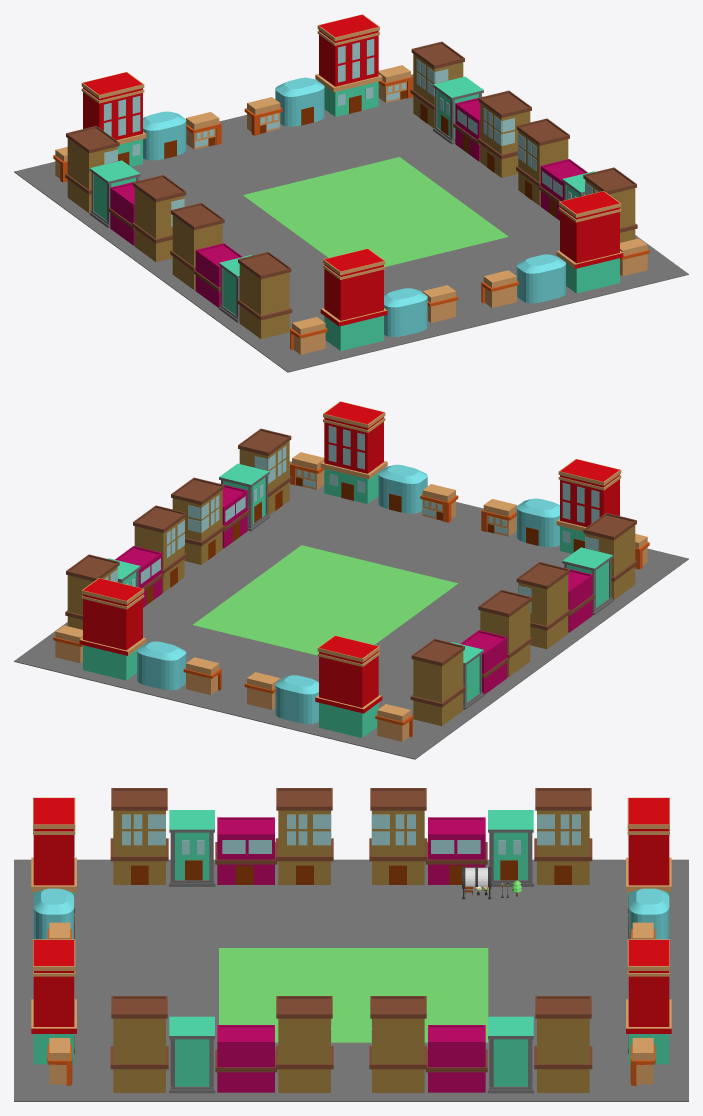
Rendered from Ciudad.fbx.
3 renders of one model, top to bottom at view 1: azimuth 30°, elevation 25°; view 2: azimuth 150°, elevation 25°; view 3: azimuth 270°, elevation 25°, orthographic. The views are drawn at different scales.
Parts seen in each view (by area): view 1: GEO-Suelo, GEO-CasaRoja, Plane, GEO-CasaMarron, GEO-CasaMarron.001, GEO-CasaAzul, GEO-CasaRosa, GEO-CasaAmarilla, GEO-CasaNaranja.001, GEO-CasaNaranja; view 2: GEO-Suelo, GEO-CasaRoja, Plane, GEO-CasaMarron, GEO-CasaMarron.001, GEO-CasaAzul, GEO-CasaRosa, GEO-CasaAmarilla, GEO-CasaNaranja.001, GEO-CasaNaranja; view 3: GEO-Suelo, GEO-CasaMarron, GEO-CasaMarron.001, Plane, GEO-CasaRoja, GEO-CasaRosa, GEO-CasaAmarilla, GEO-CasaAzul, GEO-CasaNaranja, GEO-CasaNaranja.001, Cylinder.006.
Part boxes in pixels (x1,y1,x2,y2): GEO-Suelo: (14,74,688,372); GEO-CasaRoja: (81,14,623,350); Plane: (243,157,508,266); GEO-CasaMarron: (132,90,569,290); GEO-CasaMarron.001: (65,41,637,339); GEO-CasaAzul: (143,77,565,336); GEO-CasaRosa: (108,96,587,307); GEO-CasaAmarilla: (89,76,595,322); GEO-CasaNaranja.001: (186,97,519,322); GEO-CasaNaranja: (53,65,649,354); GEO-Suelo: (14,461,688,759); GEO-CasaRoja: (79,401,621,737); Plane: (192,545,458,655); GEO-CasaMarron: (133,477,570,677); GEO-CasaMarron.001: (65,428,637,726); GEO-CasaAzul: (137,464,559,723); GEO-CasaRosa: (115,483,594,694); GEO-CasaAmarilla: (107,463,613,709); GEO-CasaNaranja.001: (183,484,516,709); GEO-CasaNaranja: (53,452,649,741); GEO-Suelo: (14,859,688,1101); GEO-CasaMarron: (275,788,427,1092); GEO-CasaMarron.001: (110,788,592,1092); Plane: (219,948,488,1042); GEO-CasaRoja: (31,797,671,1064); GEO-CasaRosa: (215,817,487,1092); GEO-CasaAmarilla: (169,810,533,1093); GEO-CasaAzul: (33,888,669,998); GEO-CasaNaranja: (47,1038,655,1085); GEO-CasaNaranja.001: (47,922,655,939); Cylinder.006: (462,866,491,886).
Size of the model in its own units: 21250 by 4072 by 25120.
